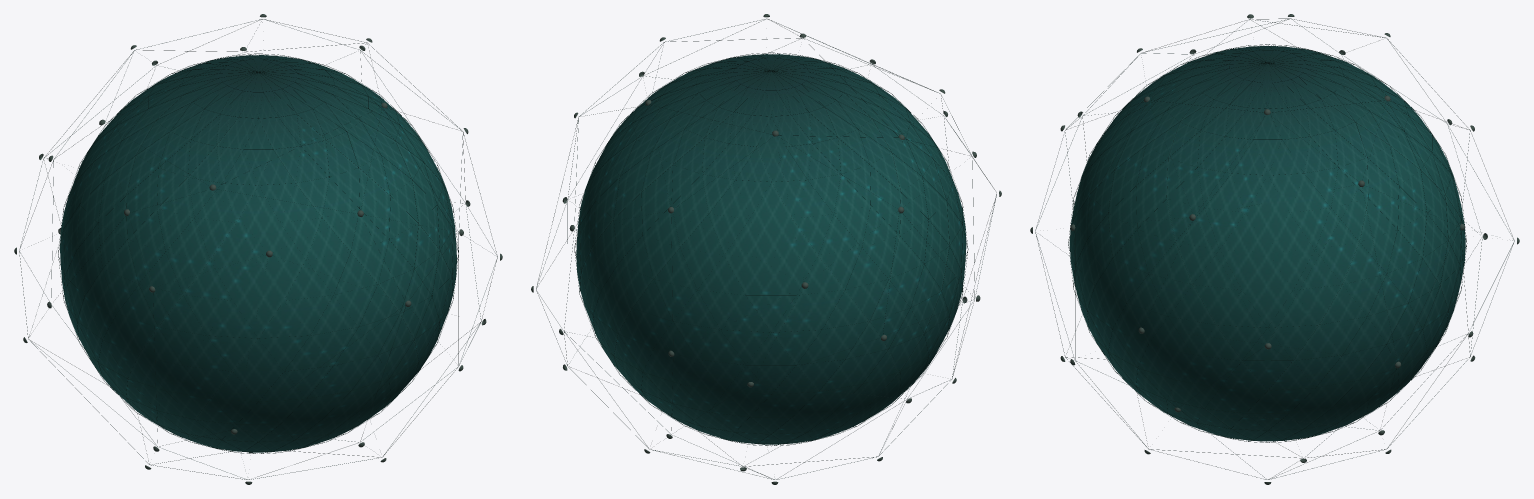
The model's file is Planet_Green.dae.
3 renders of one model, left to right at view 1: azimuth 30°, elevation 25°; view 2: azimuth 150°, elevation 25°; view 3: azimuth 270°, elevation 25°, orthographic.
Visible parts, largest first — view 1: SphereTexture, SphereLines, LinesExt, BallsExt1; view 2: SphereTexture, SphereLines, LinesExt, BallsExt1; view 3: SphereTexture, SphereLines, LinesExt, BallsExt1.
Boxes of the visible parts, x1,y1,x2,y2 form: SphereTexture: [60, 55, 456, 452]; SphereLines: [58, 53, 458, 453]; LinesExt: [19, 19, 497, 479]; BallsExt1: [14, 14, 502, 484]; SphereTexture: [576, 54, 966, 444]; SphereLines: [574, 52, 968, 446]; LinesExt: [536, 18, 996, 479]; BallsExt1: [531, 14, 1001, 484]; SphereTexture: [1069, 46, 1465, 441]; SphereLines: [1068, 44, 1467, 442]; LinesExt: [1035, 18, 1514, 479]; BallsExt1: [1030, 14, 1519, 484].
Size of the model in its own units: 2.45 by 2.4 by 2.47.
Materials: 4 (1 with a texture image).
